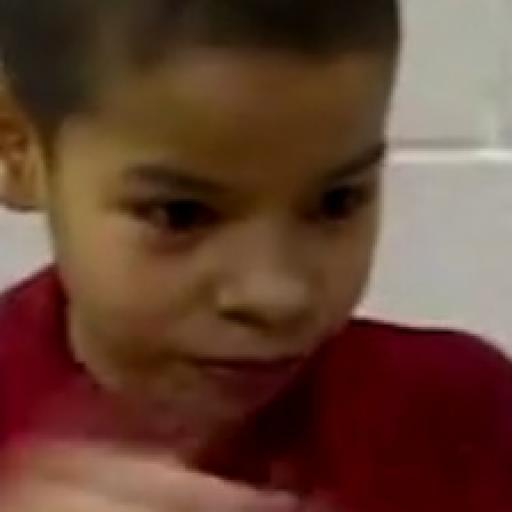Autism: (59, 0, 445, 434)
